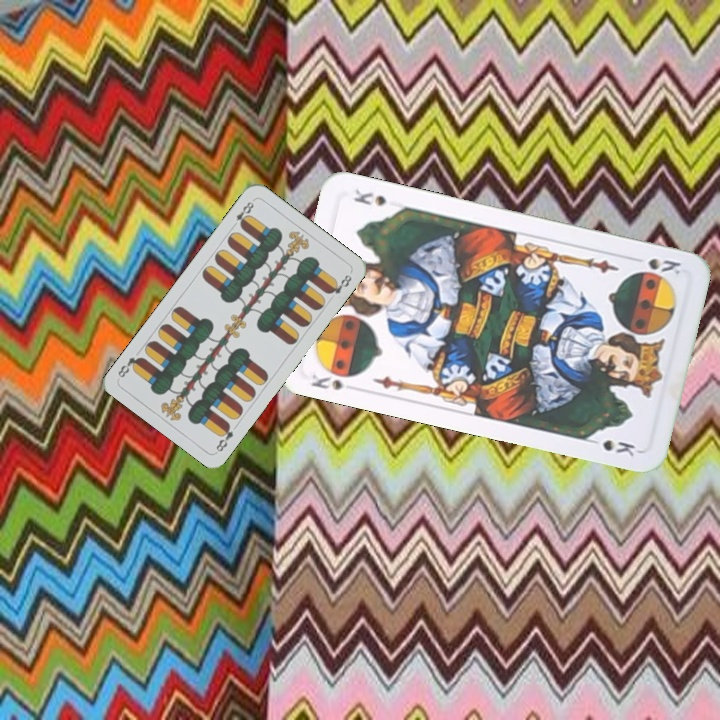E8: (228, 196, 257, 231), (212, 419, 236, 455)
SK: (627, 253, 684, 278), (307, 370, 345, 393)
